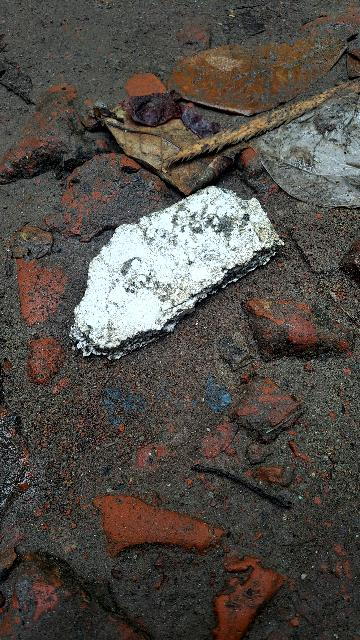cocksheet: (37, 159, 312, 378)
